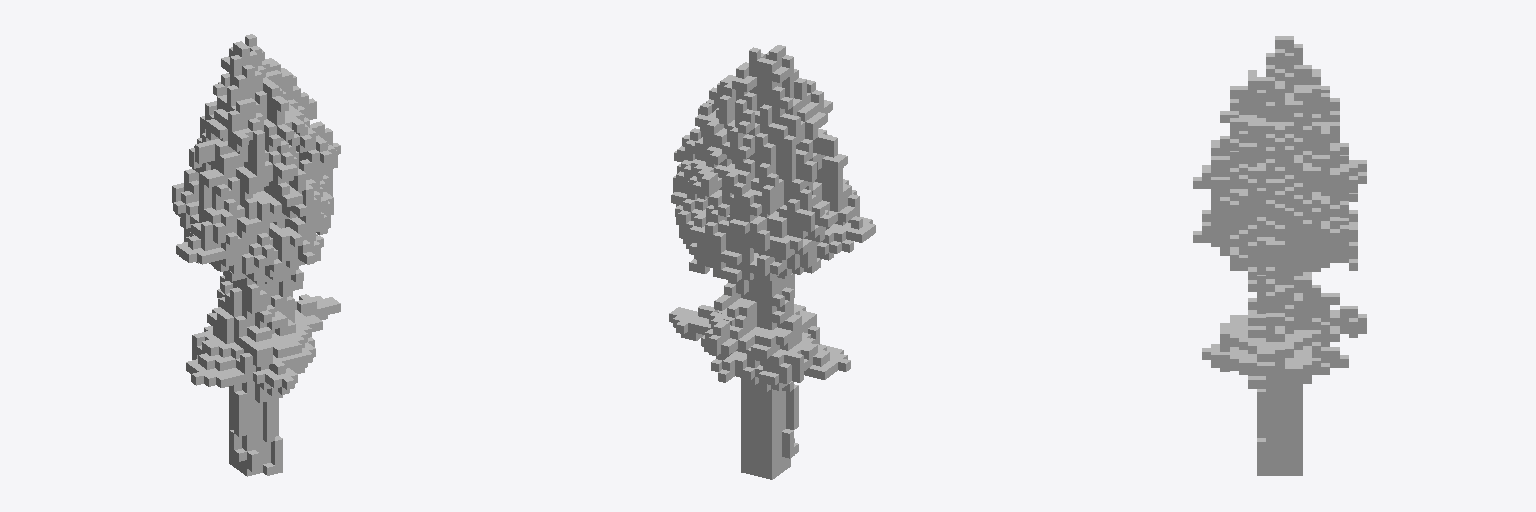
File: Tree2.obj
The picture shows the model from 3 angles: view 1: azimuth 30°, elevation 25°; view 2: azimuth 150°, elevation 25°; view 3: azimuth 270°, elevation 25°; orthographic projection.
Size of the model in its own units: 22 by 51 by 19.